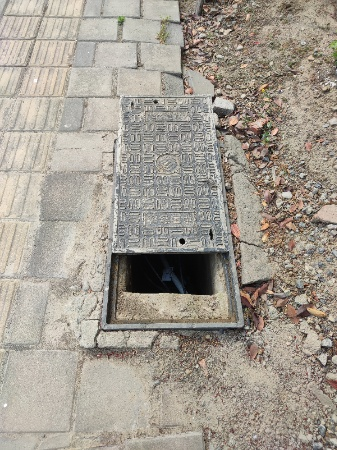uncovered: (95, 91, 247, 332)
